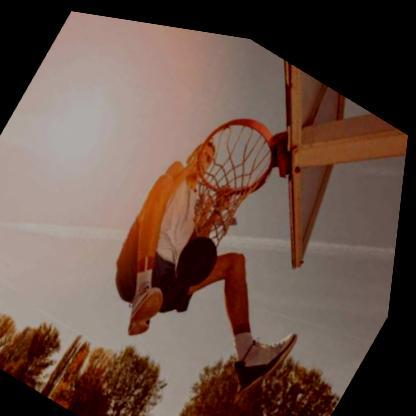basketball: (164, 88, 293, 250)
